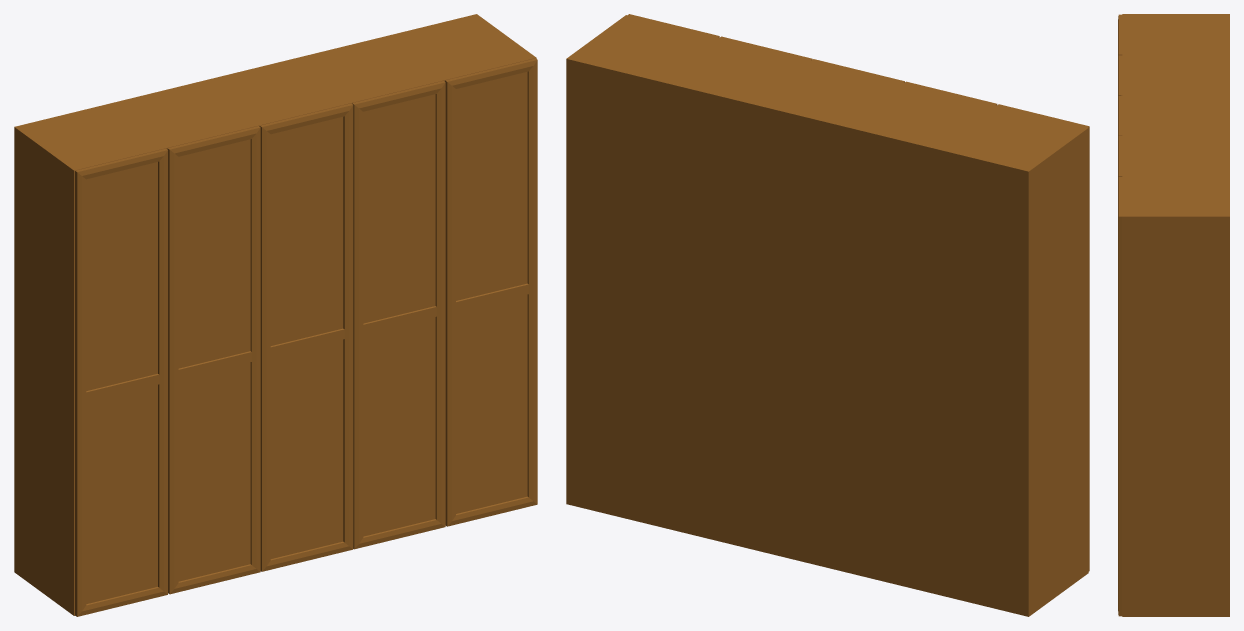
Rendered from wardrobe1I.obj.
3 renders of one model, left to right at view 1: azimuth 30°, elevation 25°; view 2: azimuth 150°, elevation 25°; view 3: azimuth 270°, elevation 25°, orthographic. The views are drawn at different scales.
Visible parts, largest first — view 1: wardrobe_Cube.025; view 2: wardrobe_Cube.025; view 3: wardrobe_Cube.025.
Part boxes in pixels (<box>): wardrobe_Cube.025: <box>14,14,537,616</box>; wardrobe_Cube.025: <box>566,14,1089,616</box>; wardrobe_Cube.025: <box>1118,14,1229,616</box>.
Bounding box in the file's own units: 11.36 × 10.45 × 2.65.
